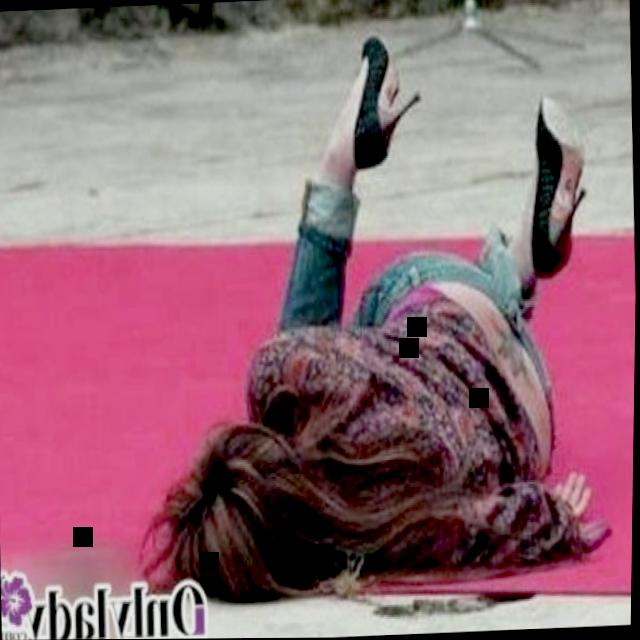Fall-Detected: (80, 0, 640, 639)
